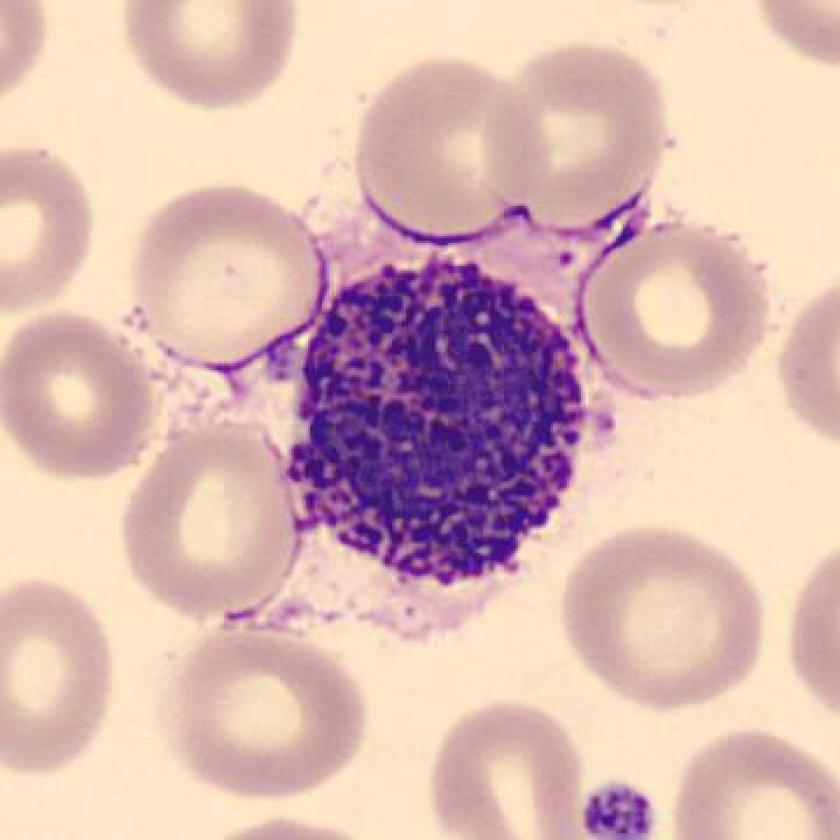basophil: (297, 249, 587, 580)
